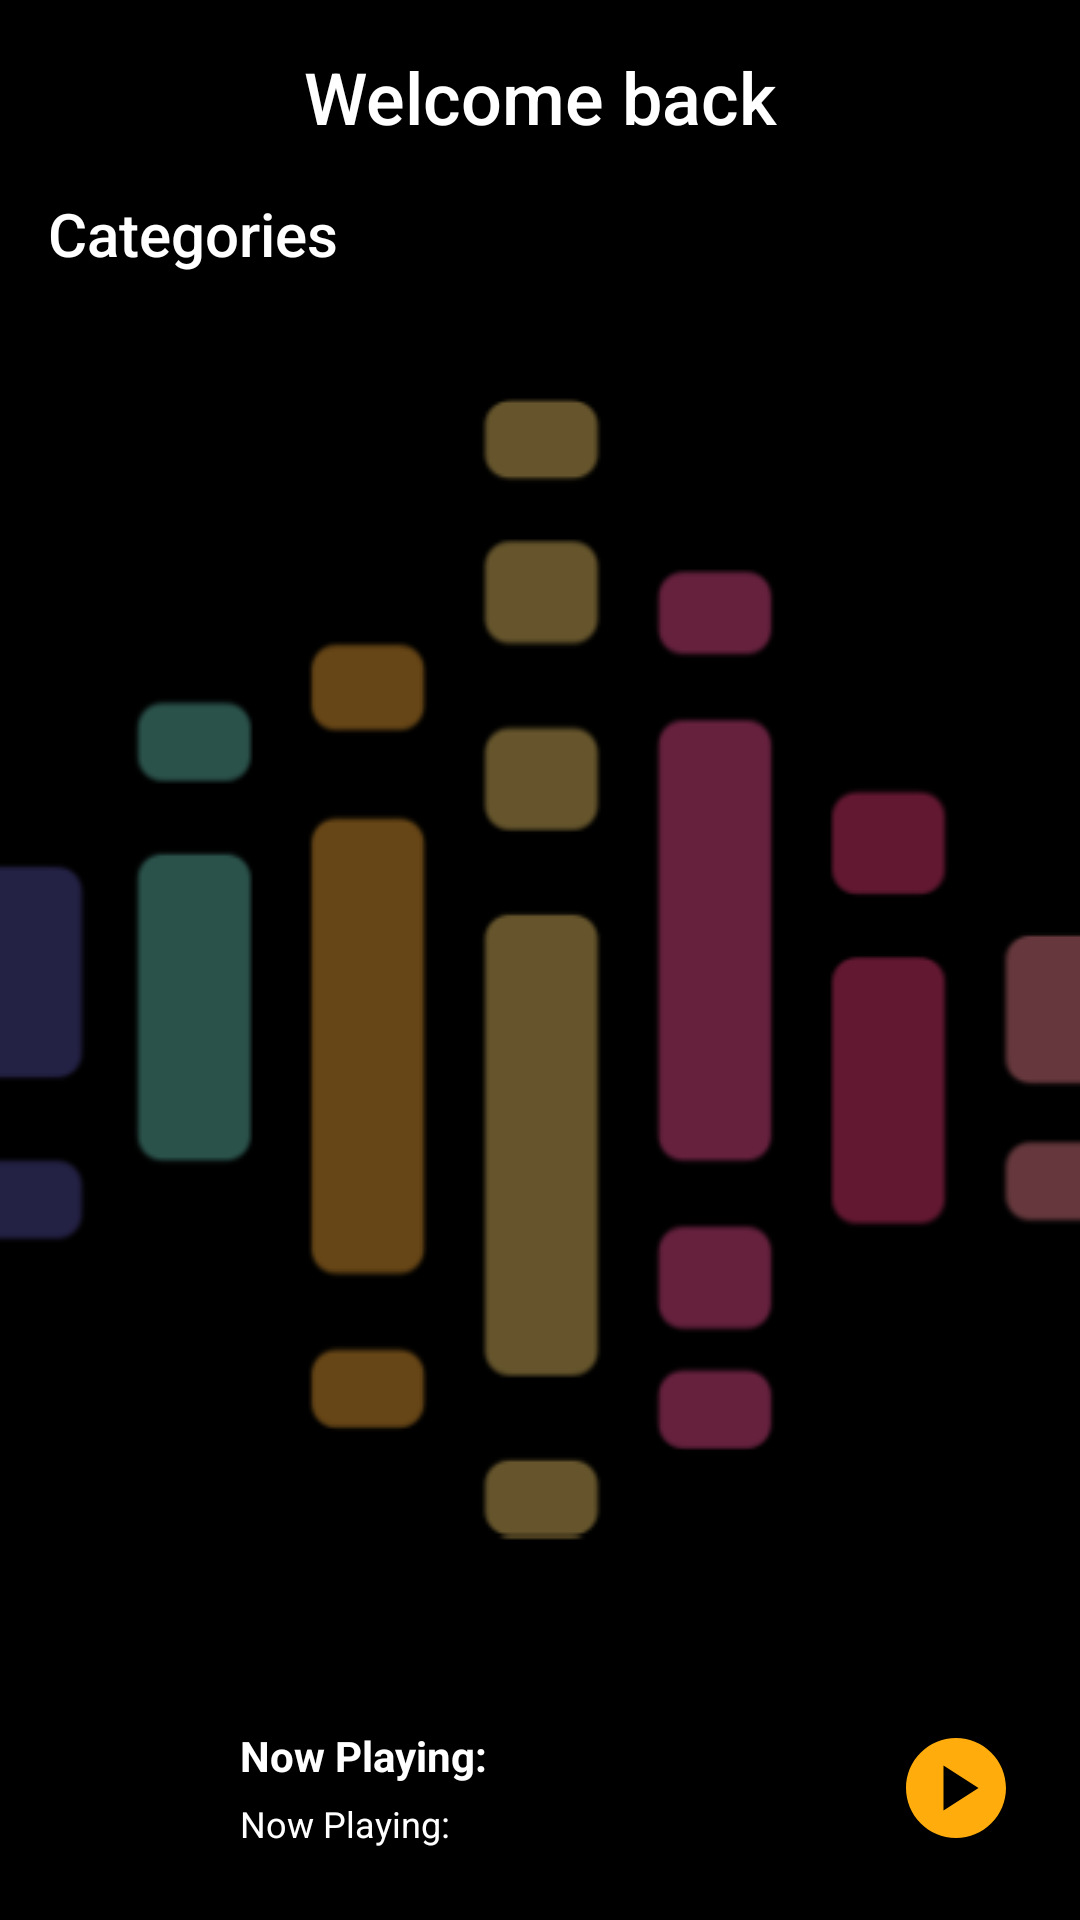

Icons on this 1080*1920 Android screen, each with the point to tap as (x=x, y=y):
play circle: (x=956, y=1788)
